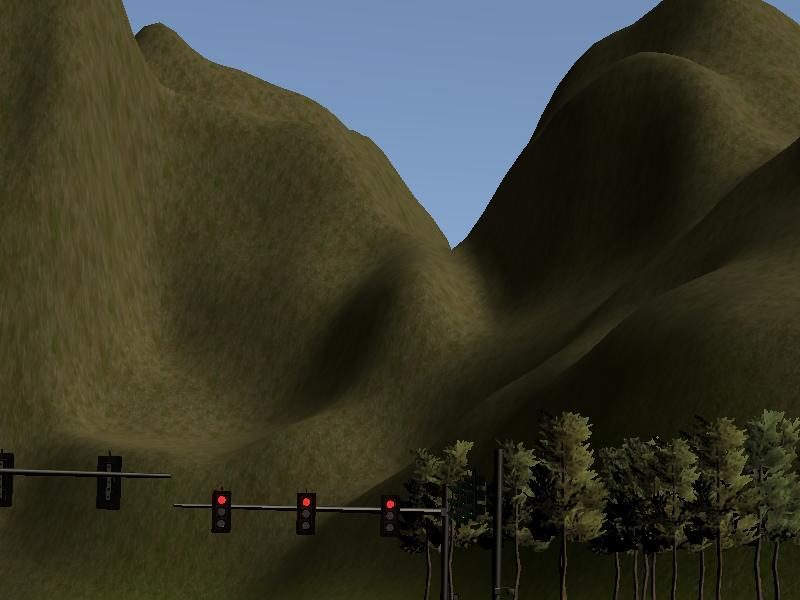Red: (380, 493, 400, 539), (296, 491, 316, 537), (211, 490, 231, 535)
